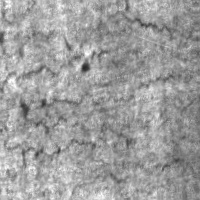crazing: (0, 79, 136, 160), (3, 134, 182, 186), (0, 25, 131, 92), (78, 5, 198, 61)
